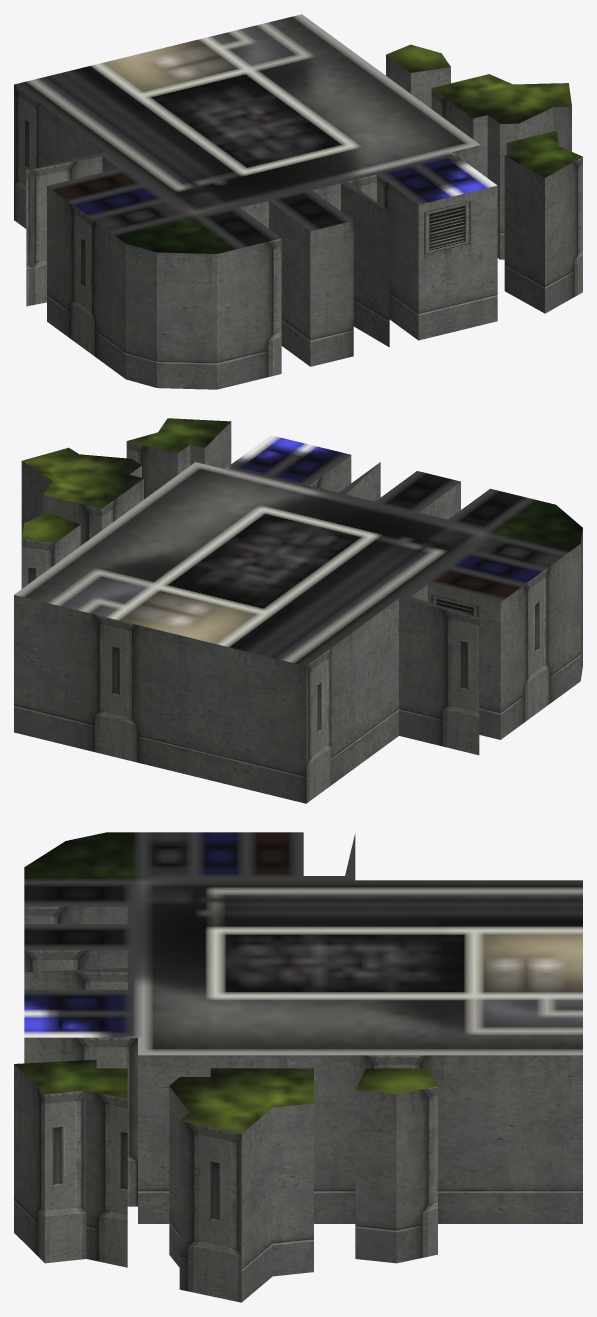
The model's file is BuildingSystem-03-Advance-04-ReinforcedLow-H-099-02.glb.
3 views of the same model, one above another, from view 1: azimuth 30°, elevation 25°; view 2: azimuth 150°, elevation 25°; view 3: azimuth 270°, elevation 25° (orthographic). The views are drawn at different scales.
Visible parts, largest first — view 1: buildings/saxarba/SMV_Buildings/BuildingSystem-03-Advance-04; view 2: buildings/saxarba/SMV_Buildings/BuildingSystem-03-Advance-04; view 3: buildings/saxarba/SMV_Buildings/BuildingSystem-03-Advance-04.
Boxes of the visible parts, bbox=[...] form: buildings/saxarba/SMV_Buildings/BuildingSystem-03-Advance-04: bbox=[14, 14, 582, 389]; buildings/saxarba/SMV_Buildings/BuildingSystem-03-Advance-04: bbox=[14, 418, 582, 803]; buildings/saxarba/SMV_Buildings/BuildingSystem-03-Advance-04: bbox=[14, 832, 582, 1302].
Size of the model in its own units: 69 by 18 by 55.
